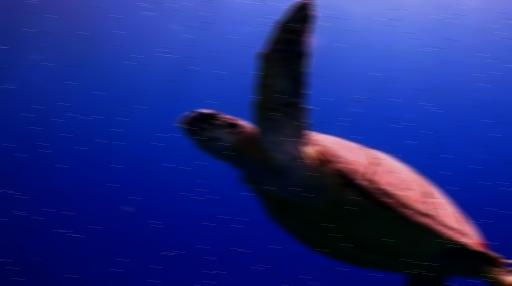Fish: (178, 0, 511, 285)
